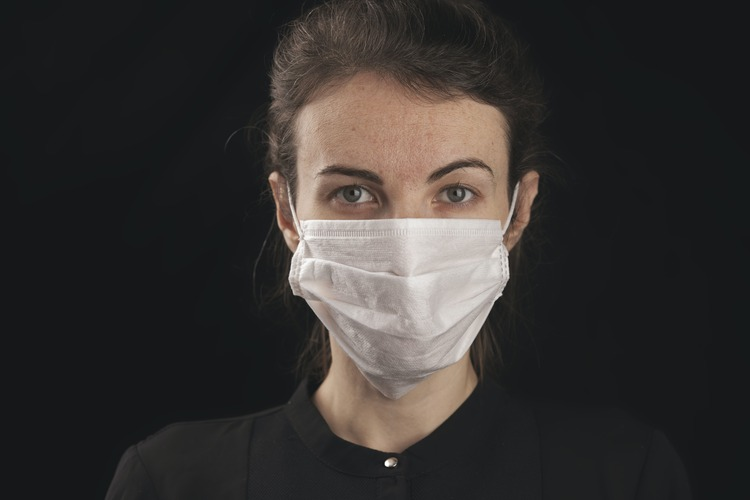with_mask: (294, 96, 507, 368)
